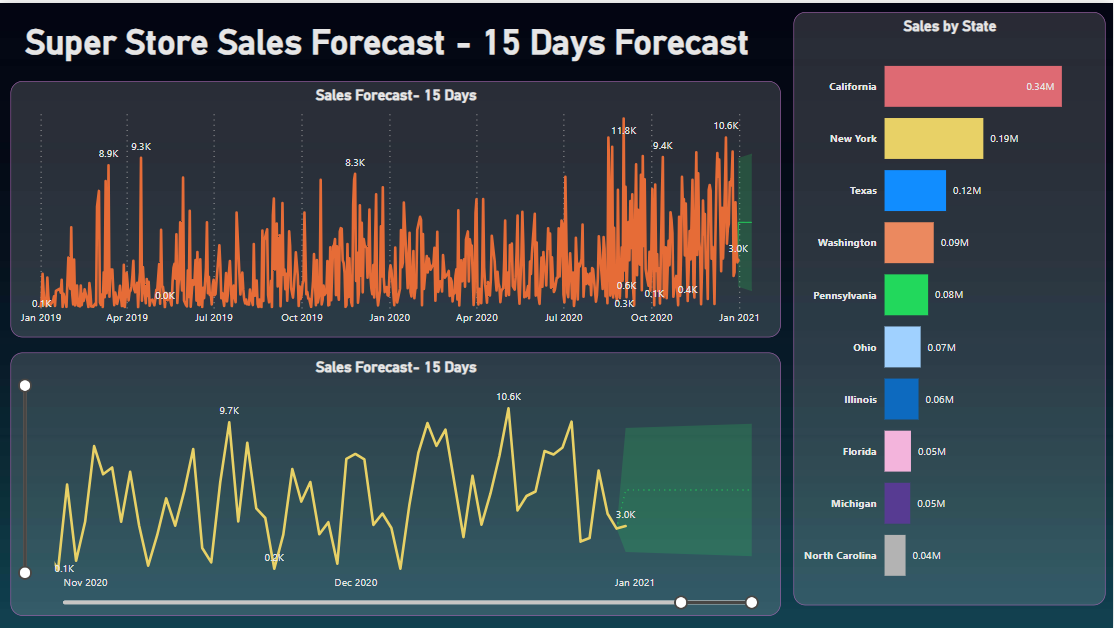

The dashboard page shown, as its layout file describes it:
{"tool":"powerbi","page":{"name":"Sale Forescast","canvas":[1280,720],"ordinal":1},"visuals":[{"type":"lineChart","title":"Sales Forecast- 15 Days","fields":{"Y":["Sum(SuperStore_Sales_Dataset (1).Sales)"],"Category":["SuperStore_Sales_Dataset (1).Order Date"]},"box":[11.9,90.3,885.3,294.7],"z":0},{"type":"lineChart","title":"Sales Forecast- 15 Days","fields":{"Y":["Sum(SuperStore_Sales_Dataset (1).Sales)"],"Category":["SuperStore_Sales_Dataset (1).Order Date"]},"box":[11.9,402.2,885.3,302.6],"z":1000},{"type":"clusteredBarChart","title":"Sales by State","fields":{"Category":["SuperStore_Sales_Dataset (1).State"],"Y":["Sum(SuperStore_Sales_Dataset (1).Sales)"]},"box":[911.9,10.6,358.4,682.3],"z":2000},{"type":"textbox","title":"Super Store Sales Forecast - 15  Days Forecast","box":[11.9,22.6,865.4,46.5],"z":3000}]}

Visuals, with their boxes in screenshot pixels (x1, y1, x2, y2), scaled from the page's 1280x720 canvas onto the 1114x628 screenshot:
"Sales Forecast- 15 Days" lineChart: 10, 79, 781, 336
"Sales Forecast- 15 Days" lineChart: 10, 351, 781, 615
"Sales by State" clusteredBarChart: 794, 9, 1106, 604
"Super Store Sales Forecast - 15  Days Forecast" textbox: 10, 20, 764, 60
